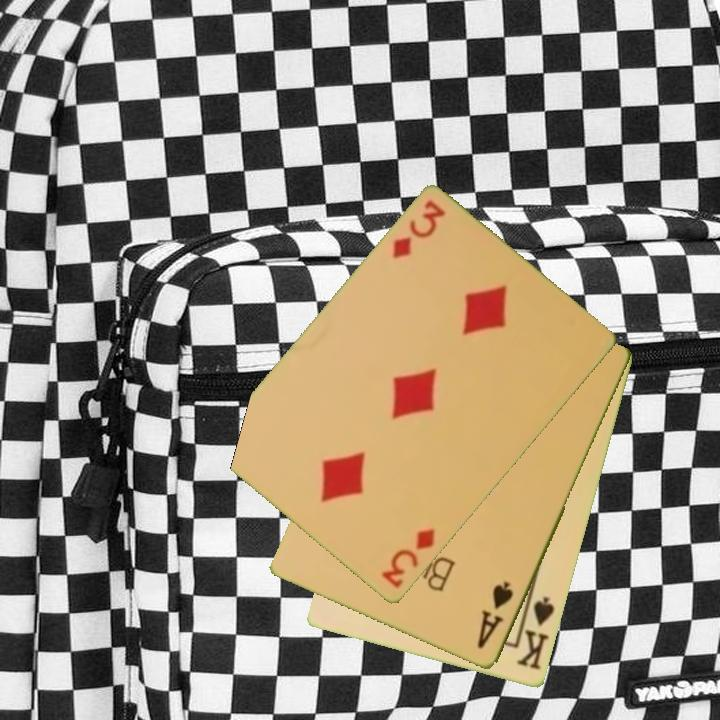3d: (377, 525, 438, 593), (389, 196, 449, 263)
As: (474, 579, 517, 653)
Ks: (513, 590, 558, 673)
